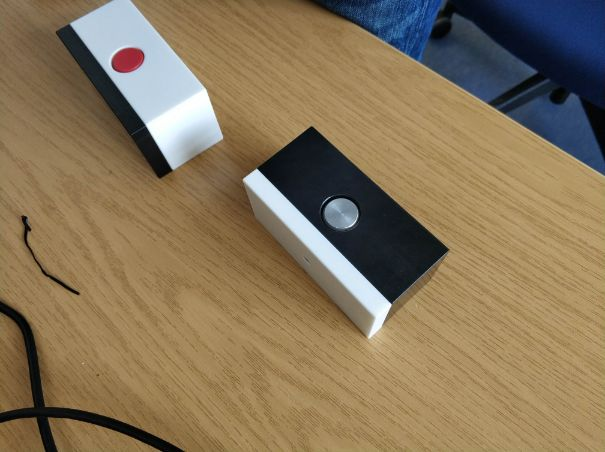black+white+red: (55, 1, 225, 182)
white+black+silver: (240, 124, 453, 341)
